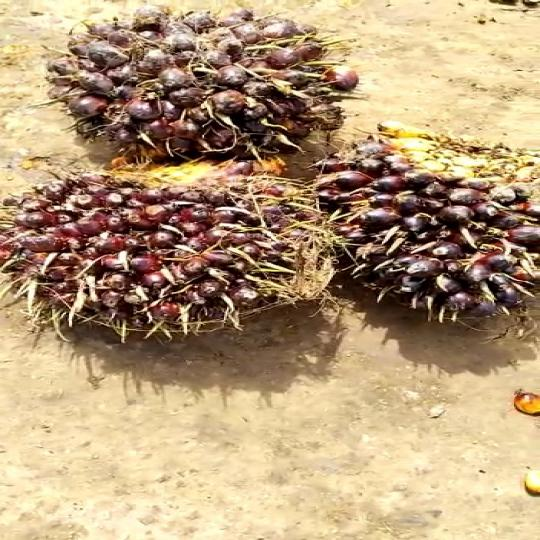kurang masak: (0, 143, 345, 335), (297, 138, 540, 330), (60, 1, 351, 151)
